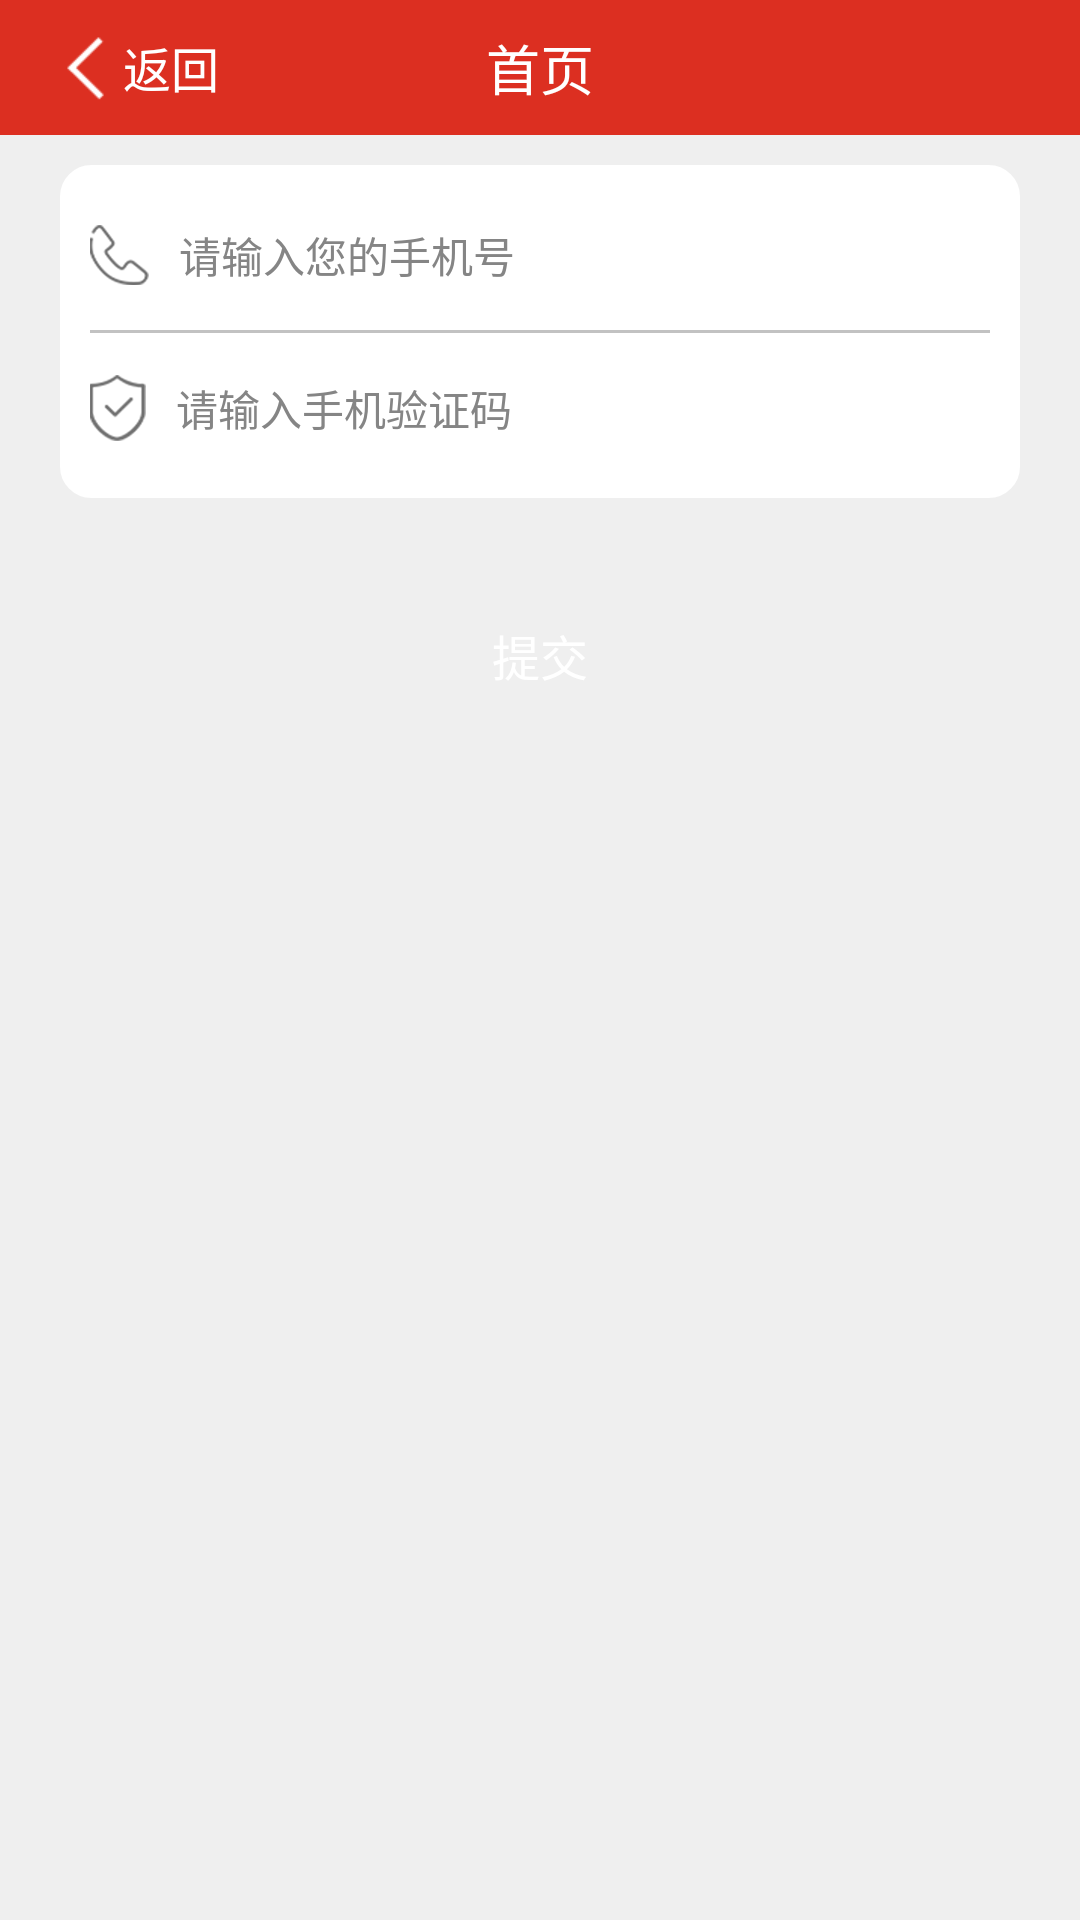

Screen size 1080w x 1920h. Icon name, then its center in pixels as (x=x, y=y):
go back: (x=85, y=68)
phone: (x=119, y=255)
